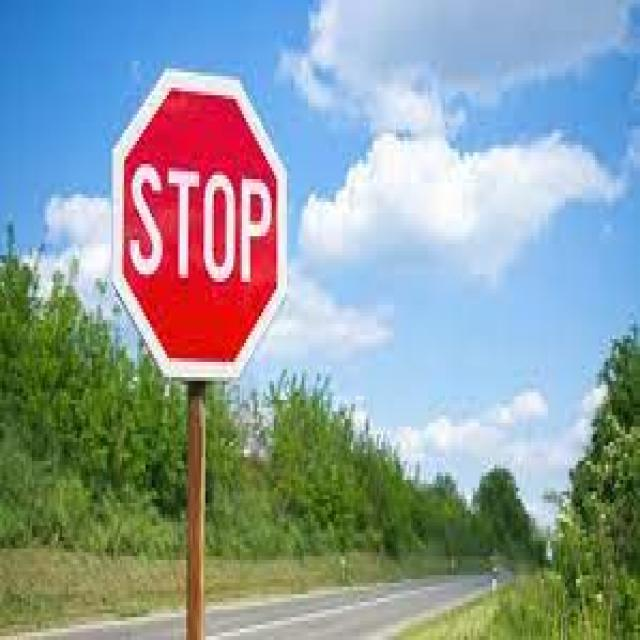stop-sign: (85, 56, 334, 418)
